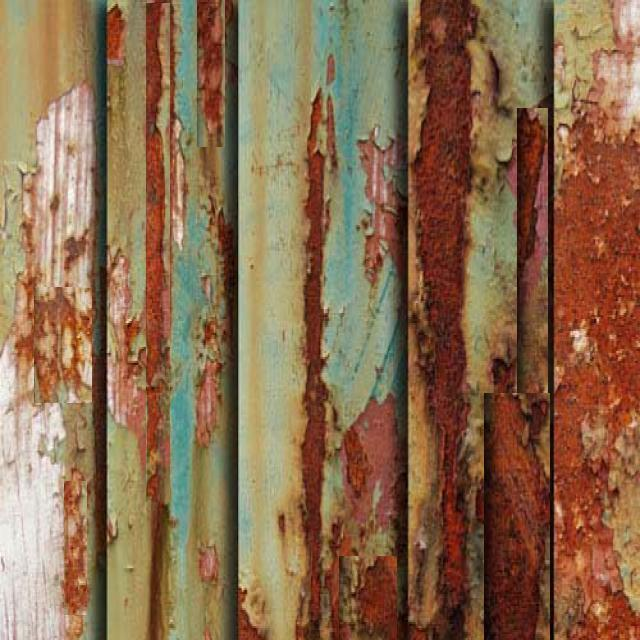Corrosion: (557, 116, 640, 640), (410, 0, 478, 626), (485, 108, 552, 640), (302, 96, 329, 640)
